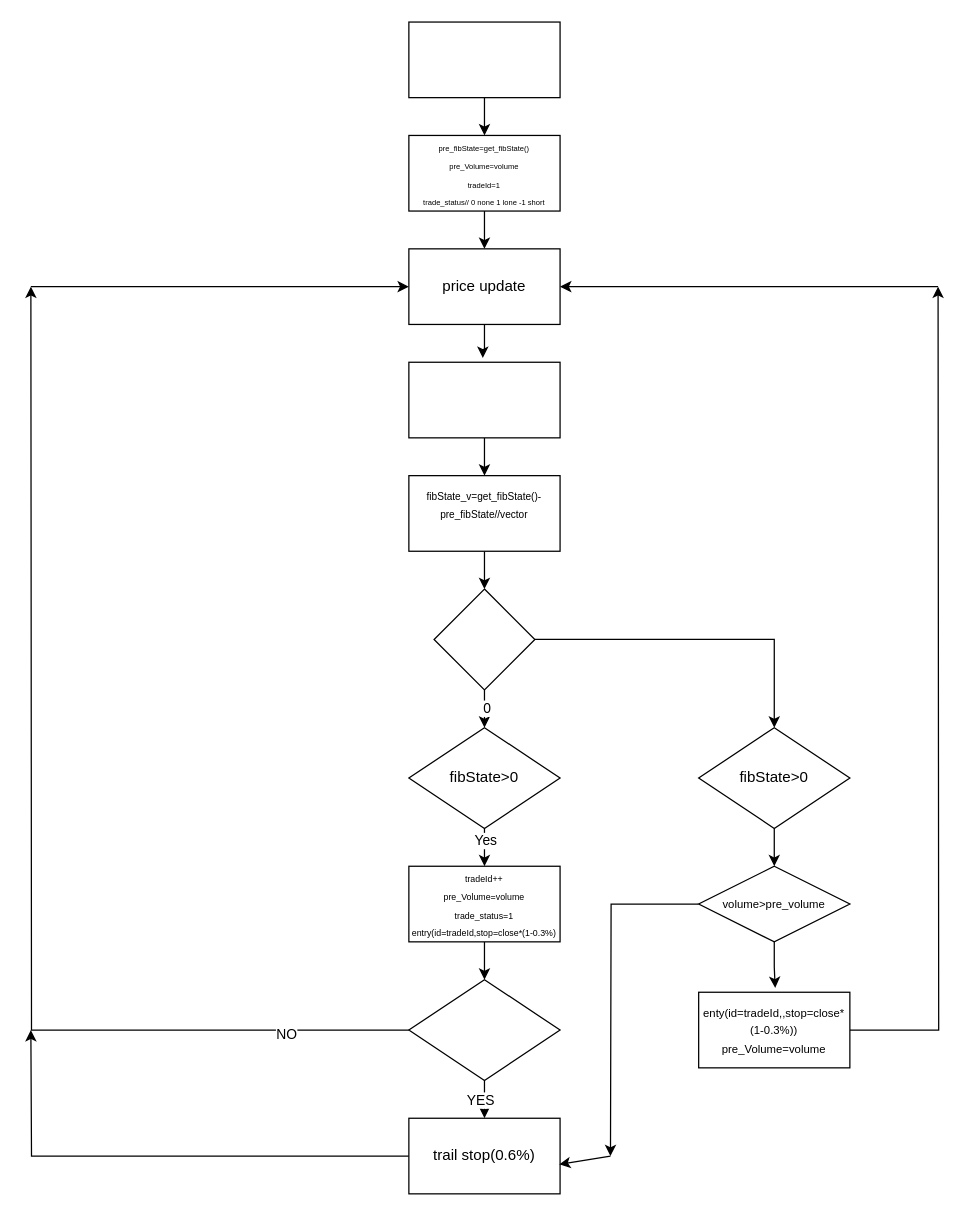
The diagram is 971 pixels wide and 1216 high, and some of its shapes have lost their labels. The shapes that lost their labels are listed below. From the top down, each one's centre as x and y in pixels, then its label:
At point 484,59: "start".
At point 484,399: "update tunnel".
At point 484,639: "trade_Status?".
At point 484,1029: "fibState_V+pre_fibState==5?".
